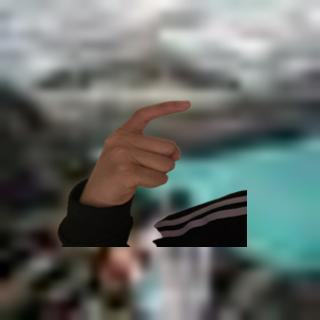WHY: (80, 90, 194, 206)
